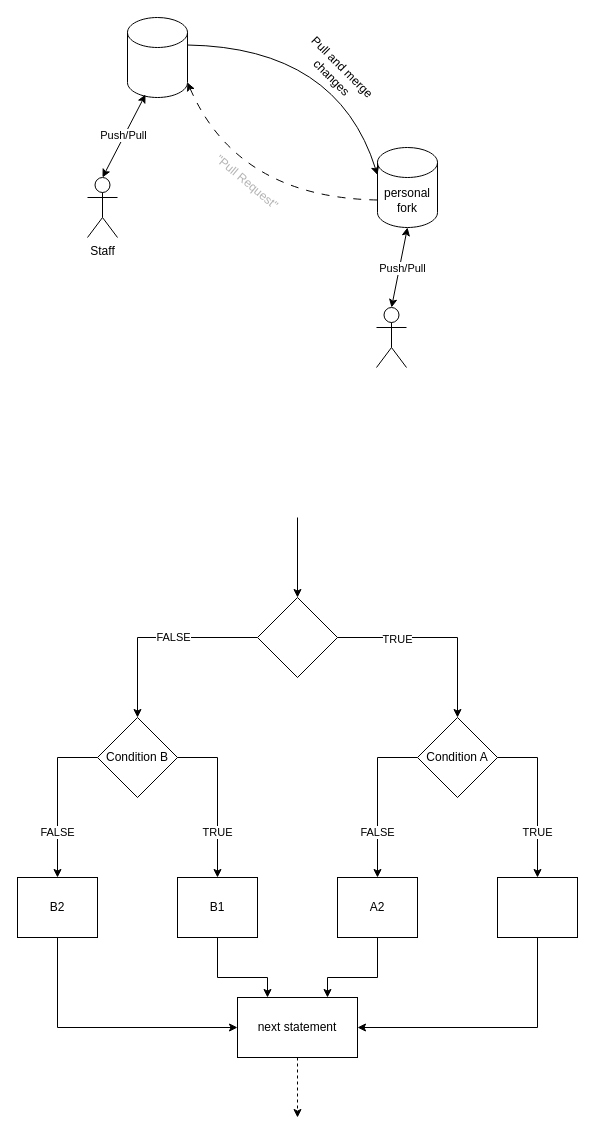
This 595x1143 diagram has some shape labels left out. Each missing label, with the box of its shape:
A1: (496, 876, 578, 938)
Condition: (256, 596, 338, 678)
Student: (376, 306, 406, 368)
upstream: (126, 16, 188, 98)
